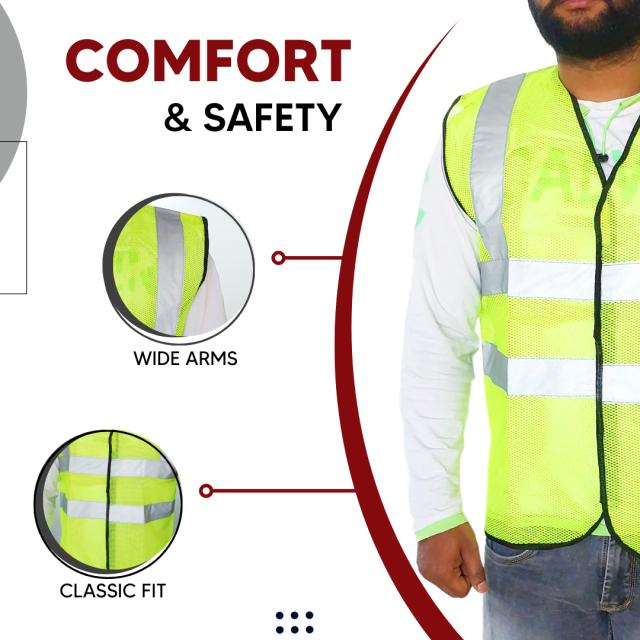safety_jacket: (458, 82, 640, 536), (101, 195, 218, 347), (58, 433, 178, 554)
